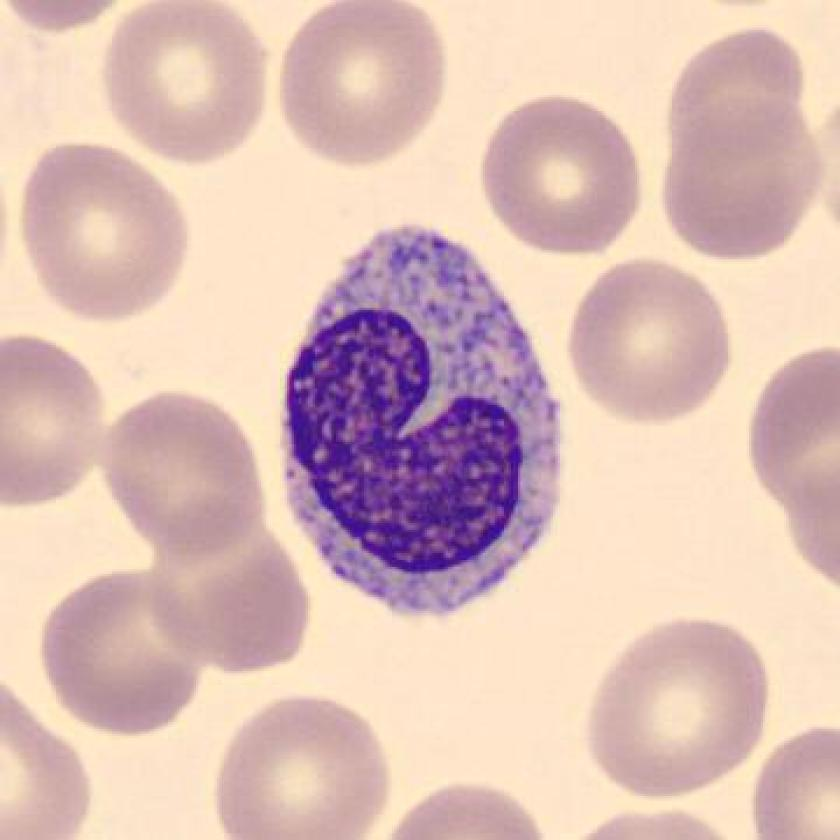monocyte: (263, 205, 585, 637)
